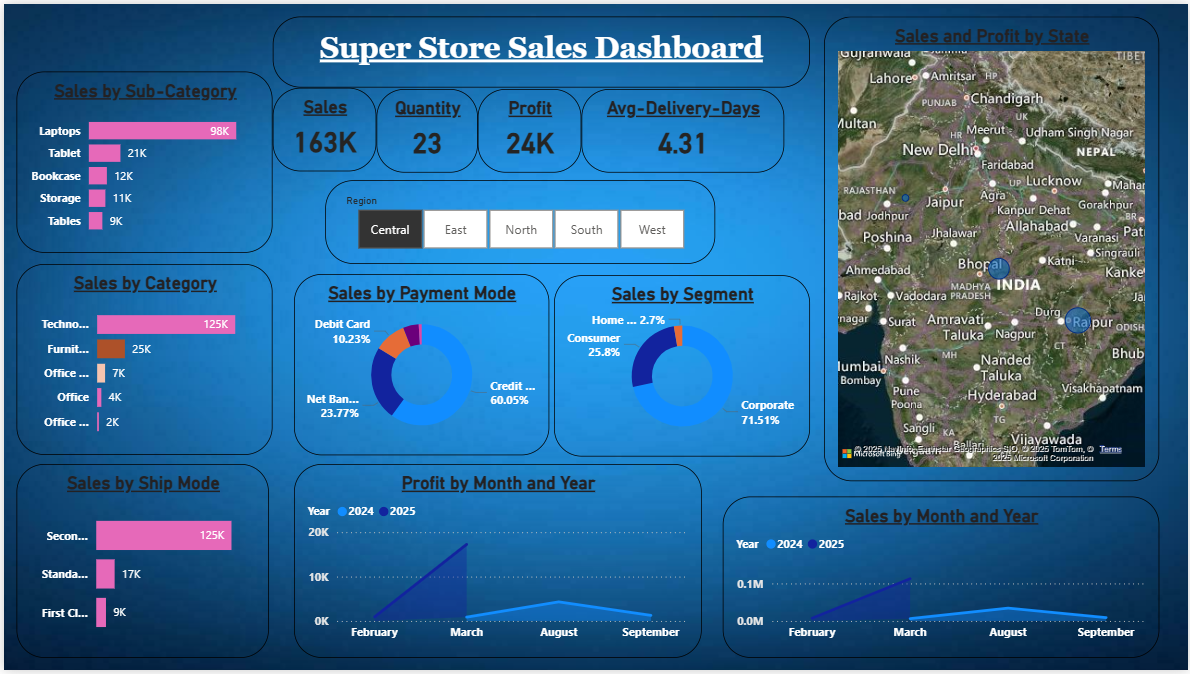

Layout of this report page (visuals, bound fields, positions):
{"tool":"powerbi","page":{"name":"Page 1","canvas":[1280,720],"ordinal":0},"visuals":[{"type":"clusteredBarChart","title":"Sales by Category","fields":{"Category":["Sheet1.Category"],"Y":["Sum(Sheet1.Sales)"]},"box":[13.5,281.1,277,206.8],"z":0},{"type":"clusteredBarChart","title":" Sales by Sub-Category","fields":{"Y":["Sum(Sheet1.Sales)"],"Category":["Sheet1.Sub-Category"]},"box":[13.5,73,277,195.9],"z":1000},{"type":"clusteredBarChart","title":" Sales by Ship Mode","fields":{"Y":["Sum(Sheet1.Sales)"],"Category":["Sheet1.Ship Mode"]},"box":[13.5,497.3,273,209.5],"z":2000},{"type":"stackedAreaChart","title":" Sales by Month and Year","fields":{"Y":["Sum(Sheet1.Sales)"],"Category":["Sheet1.Order Date.Variation.Date Hierarchy.Month","Sheet1.Order Date.Variation.Date Hierarchy.Day"],"Series":["Sheet1.Order Date.Variation.Date Hierarchy.Year"]},"box":[777,532.4,471.6,174.3],"z":3000},{"type":"stackedAreaChart","title":"Profit by Month and Year","fields":{"Category":["Sheet1.Order Date.Variation.Date Hierarchy.Month","Sheet1.Order Date.Variation.Date Hierarchy.Day"],"Series":["Sheet1.Order Date.Variation.Date Hierarchy.Year"],"Y":["Sum(Sheet1.Profit)"]},"box":[313.5,497.3,440.5,209.5],"z":4000},{"type":"map","title":"Sales and  Profit by State","fields":{"Category":["Sheet1.State"],"Size":["Sum(Sheet1.Sales)"]},"box":[886.5,13.5,362.2,502.7],"z":5000},{"type":"donutChart","title":"Sales by Segment","fields":{"Category":["Sheet1.Segment"],"Y":["Sum(Sheet1.Sales)"]},"box":[594.6,293.2,277,195.9],"z":6000},{"type":"donutChart","title":"Sales by Payment Mode","fields":{"Y":["Sum(Sheet1.Sales)"],"Category":["Sheet1.Payment Mode"]},"box":[313.5,291.9,275.7,195.9],"z":7000},{"type":"slicer","fields":{"Values":["Sheet1.Region"]},"box":[347.3,190.5,421.6,90.5],"z":8000},{"type":"textbox","box":[290.5,13.5,581.1,77],"z":9000},{"type":"card","title":"Sales","fields":{"Values":["Sum(Sheet1.Sales)"]},"box":[290.5,90.5,112.2,90.5],"z":10000},{"type":"card","title":"Quantity","fields":{"Values":["Sum(Sheet1.Quantity)"]},"box":[402.7,91.9,109.5,90.5],"z":11000},{"type":"card","title":"Profit","fields":{"Values":["Sum(Sheet1.Profit)"]},"box":[512.2,91.9,112.2,90.5],"z":12000},{"type":"card","title":"Avg-Delivery-Days","fields":{"Values":["Avg(Sheet1.AvgDelivery)"]},"box":[624.3,91.9,218.9,90.5],"z":13000}]}

Visuals, with their boxes in screenshot pixels (x1, y1, x2, y2), scaled from the page's 1280x720 canvas onto the 1190x674 screenshot:
"Sales by Category" clusteredBarChart: box=[13, 263, 270, 457]
" Sales by Sub-Category" clusteredBarChart: box=[13, 68, 270, 252]
" Sales by Ship Mode" clusteredBarChart: box=[13, 466, 266, 662]
" Sales by Month and Year" stackedAreaChart: box=[722, 498, 1161, 662]
"Profit by Month and Year" stackedAreaChart: box=[291, 466, 701, 662]
"Sales and  Profit by State" map: box=[824, 13, 1161, 483]
"Sales by Segment" donutChart: box=[553, 274, 810, 458]
"Sales by Payment Mode" donutChart: box=[291, 273, 548, 457]
slicer - Sheet1.Region: box=[323, 178, 715, 263]
textbox: box=[270, 13, 810, 85]
"Sales" card: box=[270, 85, 374, 169]
"Quantity" card: box=[374, 86, 476, 171]
"Profit" card: box=[476, 86, 580, 171]
"Avg-Delivery-Days" card: box=[580, 86, 784, 171]
